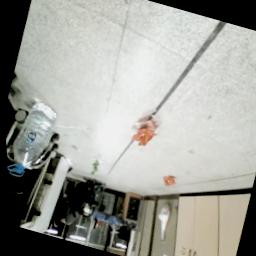herb: (87, 159, 102, 180)
wild: (128, 125, 161, 154), (160, 175, 178, 191)
